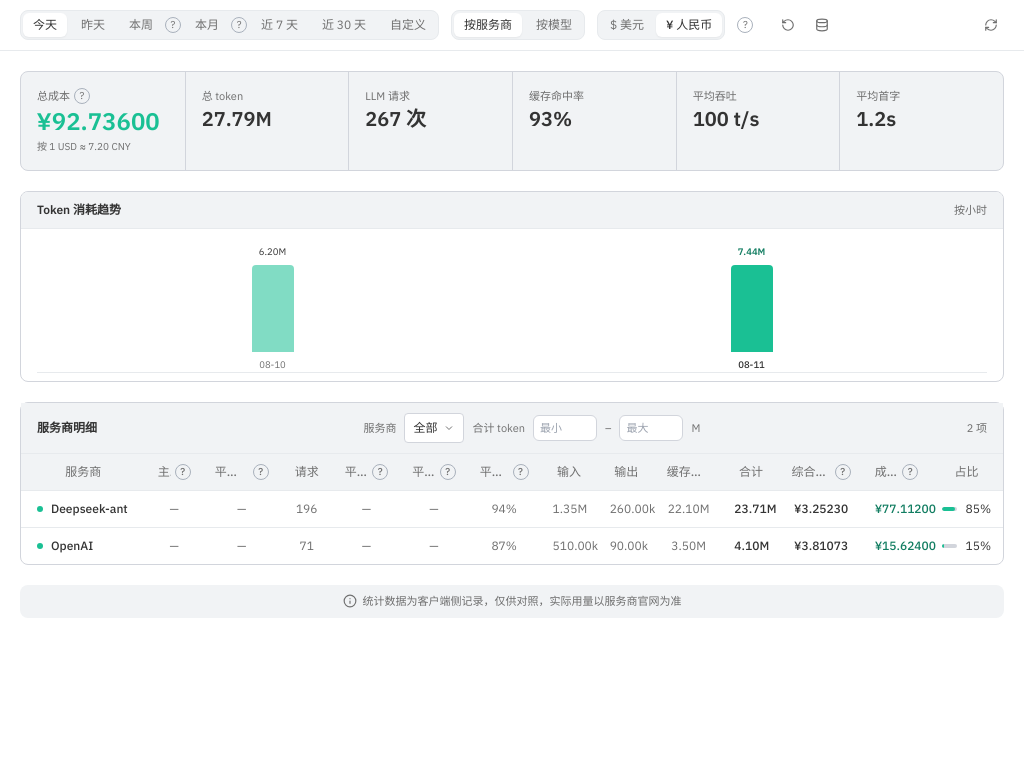
Scenario: UsageWindow 全局用量窗口 › 切换货币 → 美元/人民币换算（KPI + 明细成本列）
The image size is (1024, 768).
Expected: the text "¥92.73600" is shown, 37,108 -> 169,132
Expected: the text "按 1 USD ≈ 7.20 CNY" is shown, 37,140 -> 131,152
Click the button with test id "currency-usd" at [627, 25], box 600,13 -> 654,37
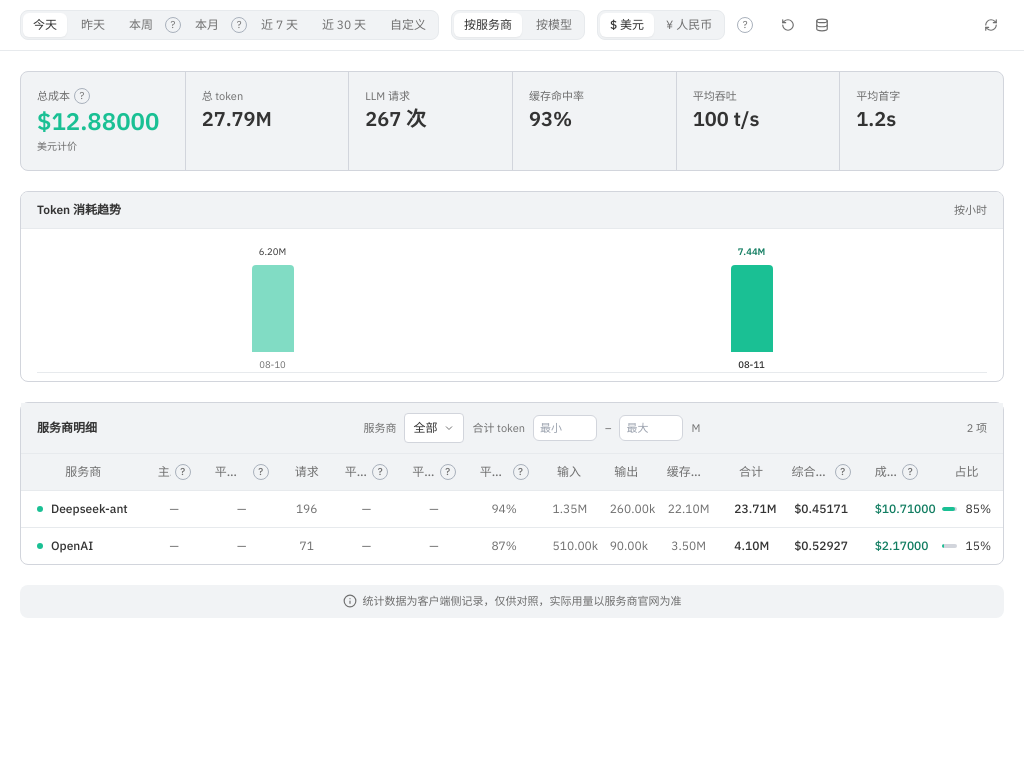
Now the text "$12.88000" is shown, box 37,108 -> 169,132
Now the text "¥92.73600" is gone
Now the text "$10.71000" is shown, box 863,490 -> 930,528
